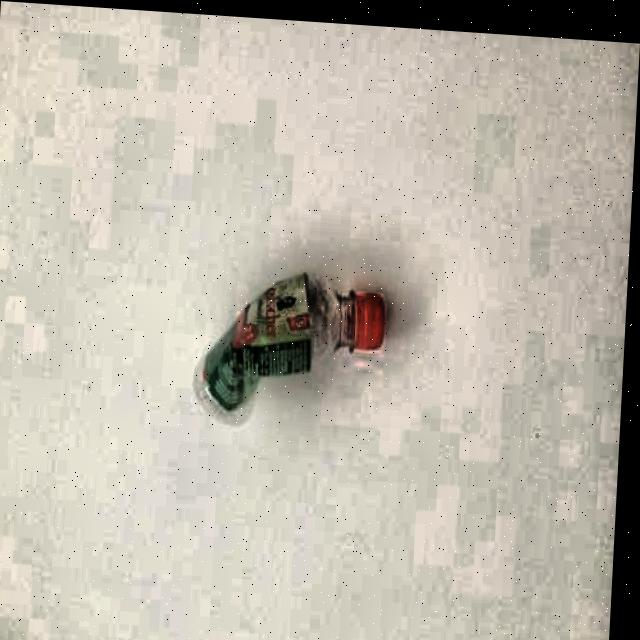plastic: (187, 268, 388, 441)
